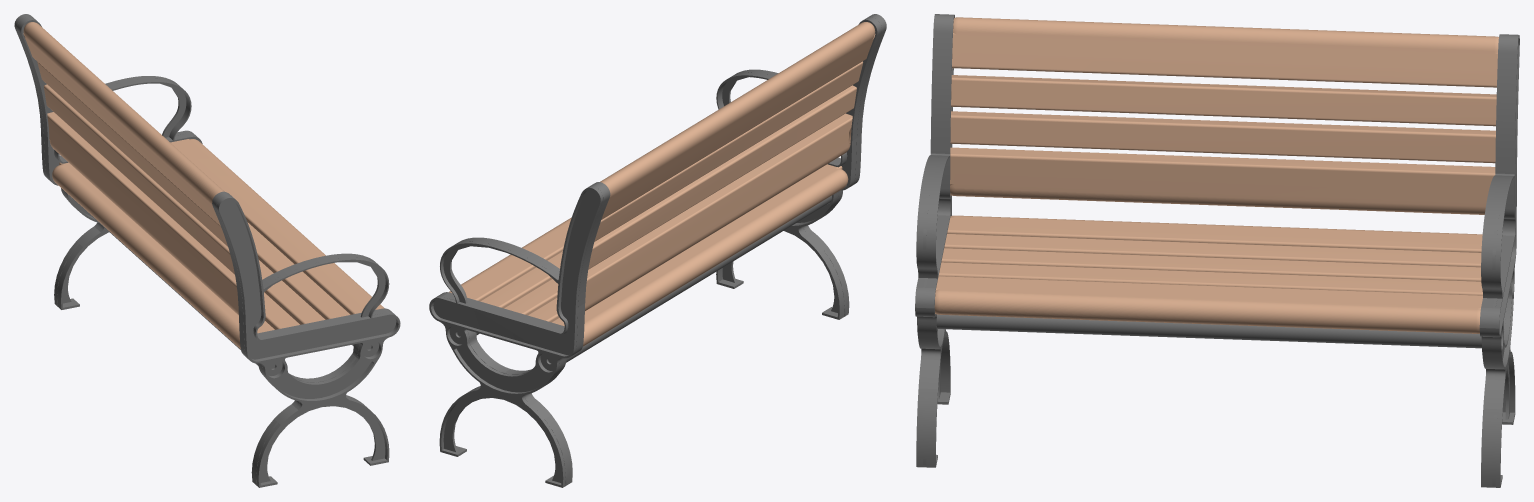
The model's file is bench.fbx.
The picture shows the model from 3 angles, left to right: view 1: azimuth 30°, elevation 25°; view 2: azimuth 150°, elevation 25°; view 3: azimuth 270°, elevation 25°; orthographic projection. The views are drawn at different scales.
Visible parts, largest first — view 1: ChamferB54; view 2: ChamferB54; view 3: ChamferB54.
Boxes of the visible parts, box(x1,y1,x2,y2) form: ChamferB54: box(14, 14, 400, 487); ChamferB54: box(429, 14, 886, 487); ChamferB54: box(915, 14, 1519, 487).
Bounding box in the file's own units: 2478 × 3368 × 5114.
